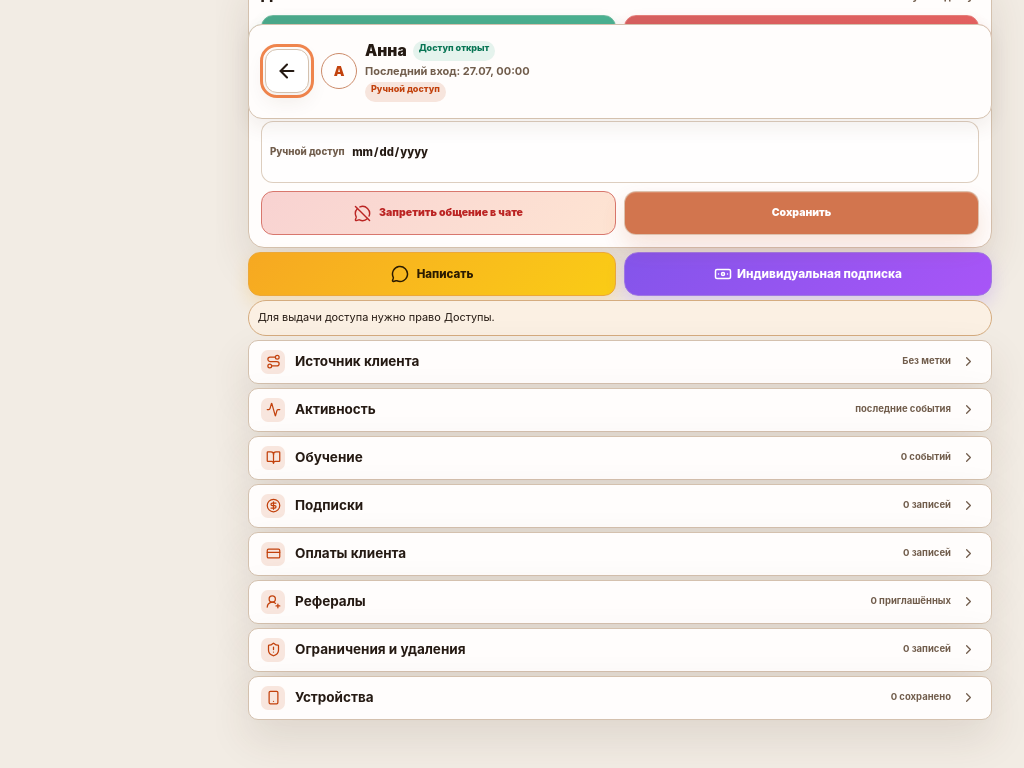
it: AdminClientsPanel › keeps the separate learning screen inside a support client card without changing routes
(page scrolled)
Click the button with aria-label "Открыть раздел Обучение": (329, 457) [248,436,992,480]
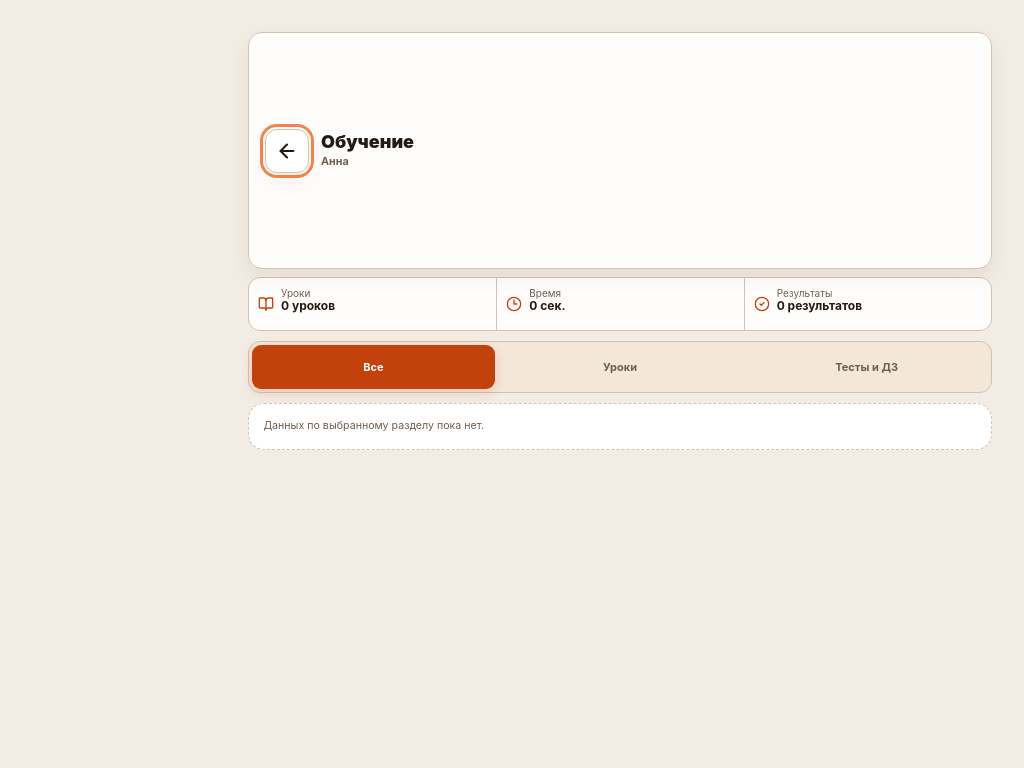
Expected: the heading "Обучение" is shown, [321,132,414,152]
Click the button named "Назад": (287, 150) [265,128,309,172]
(page scrolled)
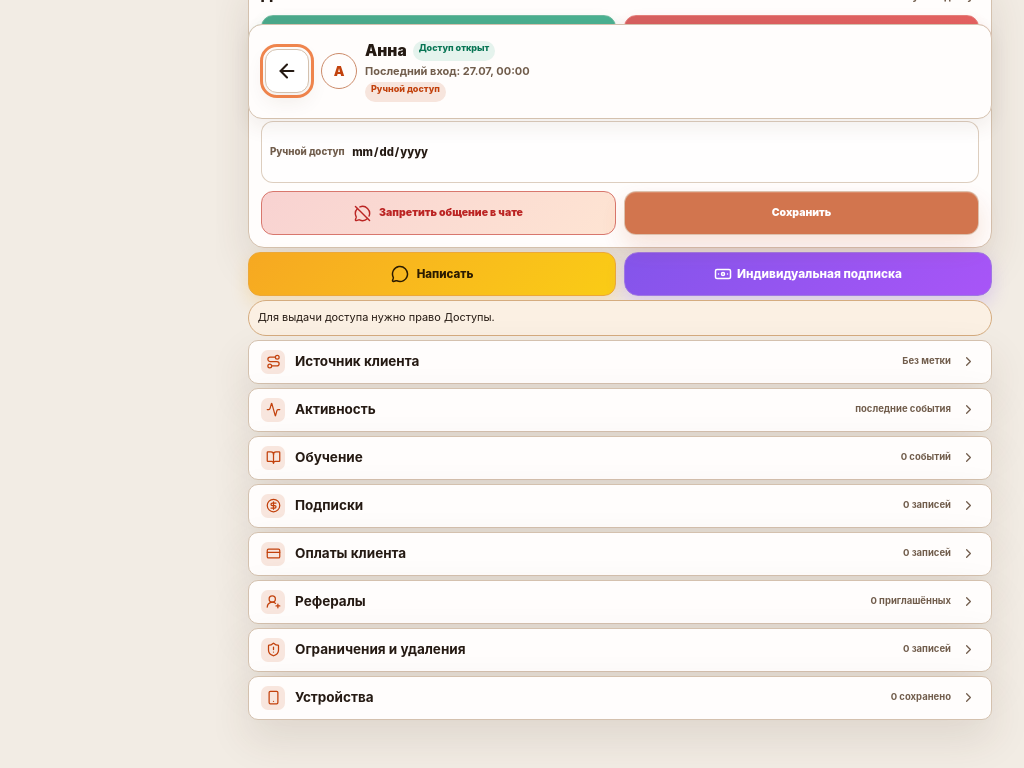
Now the button with aria-label "Открыть раздел Обучение" is shown, box [248,436,992,480]
